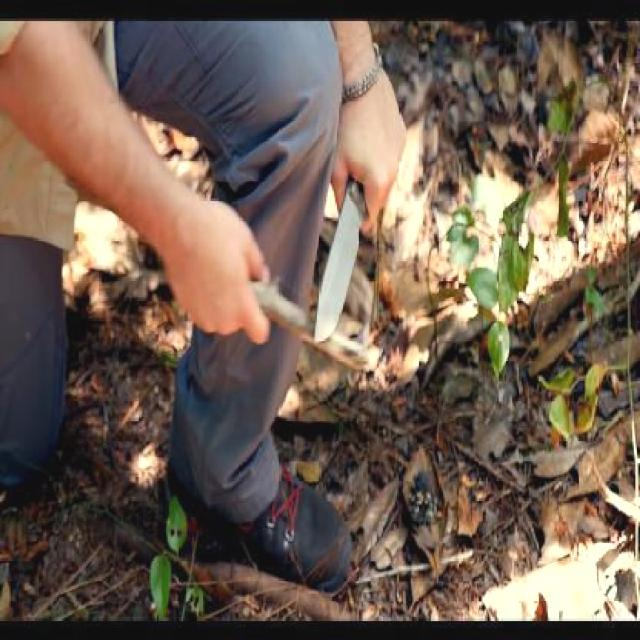knife: (309, 120, 409, 358)
